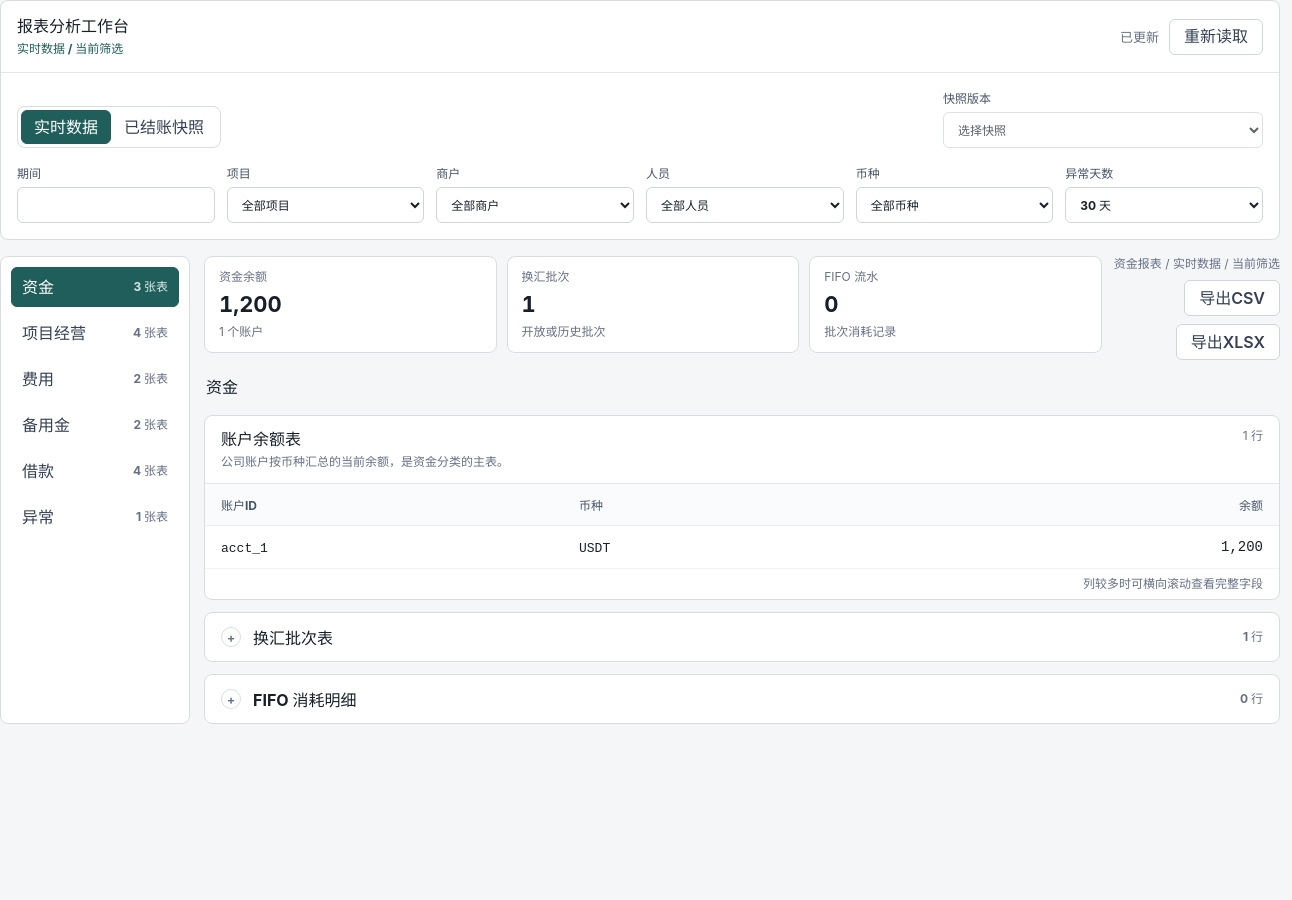
it: ReportsPage › renders exceptions as a risk-sorted action list
Check: the message with class "status-slot" reads "已更新", box [1120,28,1159,44]
Click the tab "异常 1 张表": point(95, 517) [11,497,179,537]
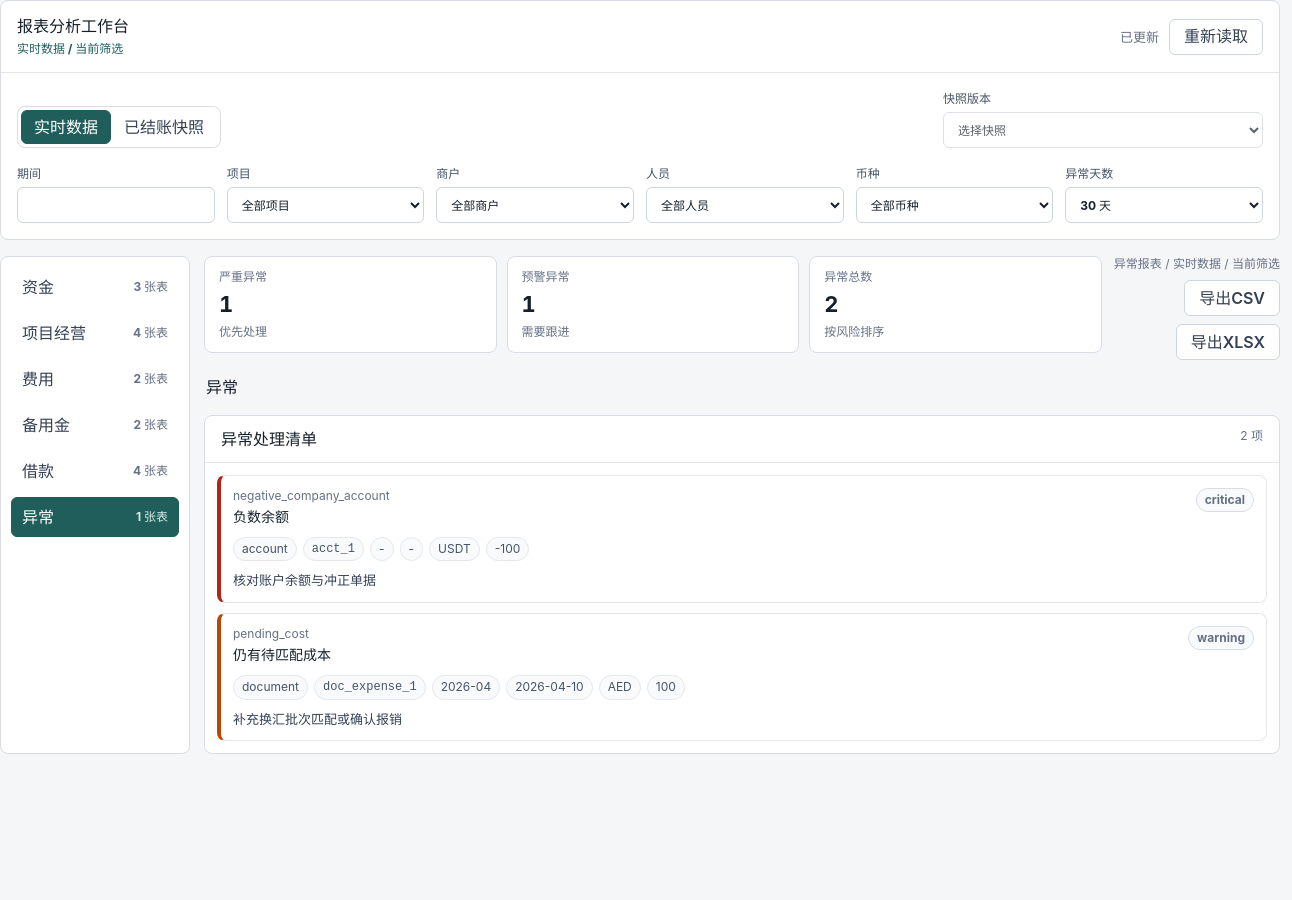
Check: the element with class "exception-action-item" shows "critical", box [1205,492,1245,507]
Check: the element with class "exception-action-item" shows "负数余额", box [233,508,289,525]
Check: the element with class "exception-action-item" shows "warning", box [1197,630,1245,645]
